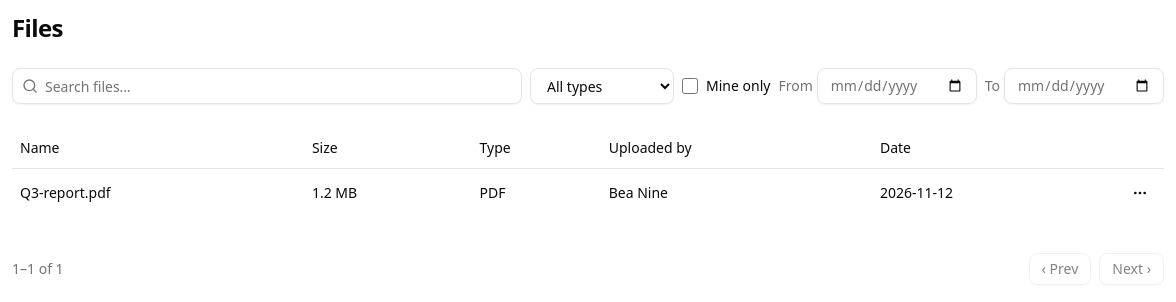
Test: Files page › read-only user: no Upload, no Delete, no Export
Click the button named "actions for Q3-report.pdf".
click(1140, 192)  # box [1124,176,1156,208]
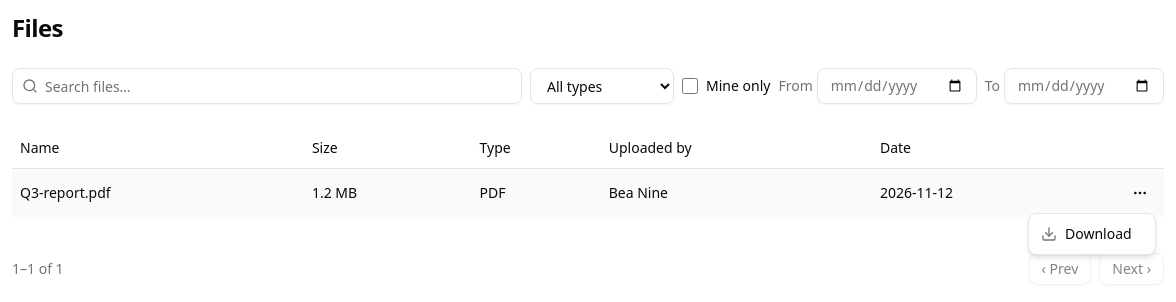
Result: the menu item "Download" is shown at [1041,224,1132,243]
